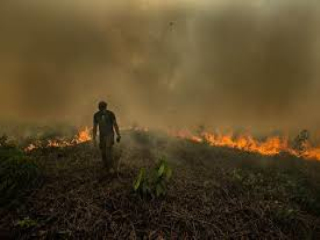fire: (181, 125, 313, 161), (14, 123, 90, 150)
